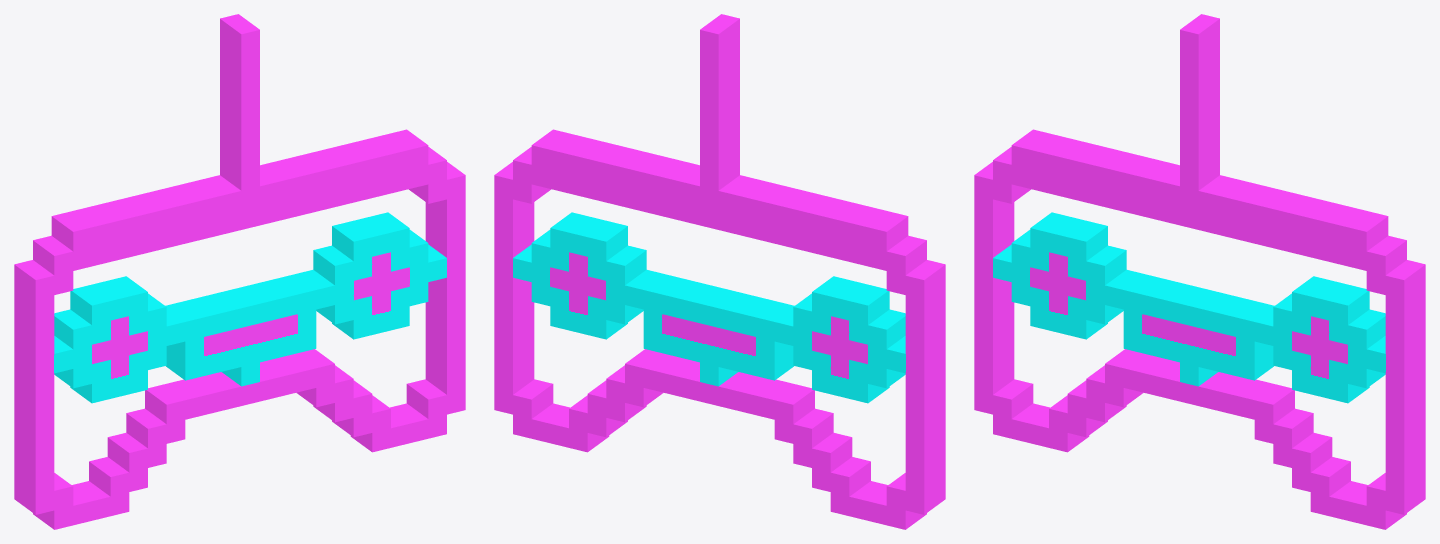
Rendered from controller.glb.
The picture shows the model from 3 angles, left to right: view 1: azimuth 30°, elevation 25°; view 2: azimuth 150°, elevation 25°; view 3: azimuth 330°, elevation 25°; orthographic projection.
Parts seen in each view (by area): view 1: Object_4; view 2: Object_4; view 3: Object_4.
Boxes of the visible parts, x1,y1,x2,y2 form: Object_4: [14, 14, 465, 529]; Object_4: [494, 14, 945, 529]; Object_4: [974, 14, 1425, 529].
Size of the model in its own units: 23 by 23 by 2.
Materials: 1 (1 with a texture image).
